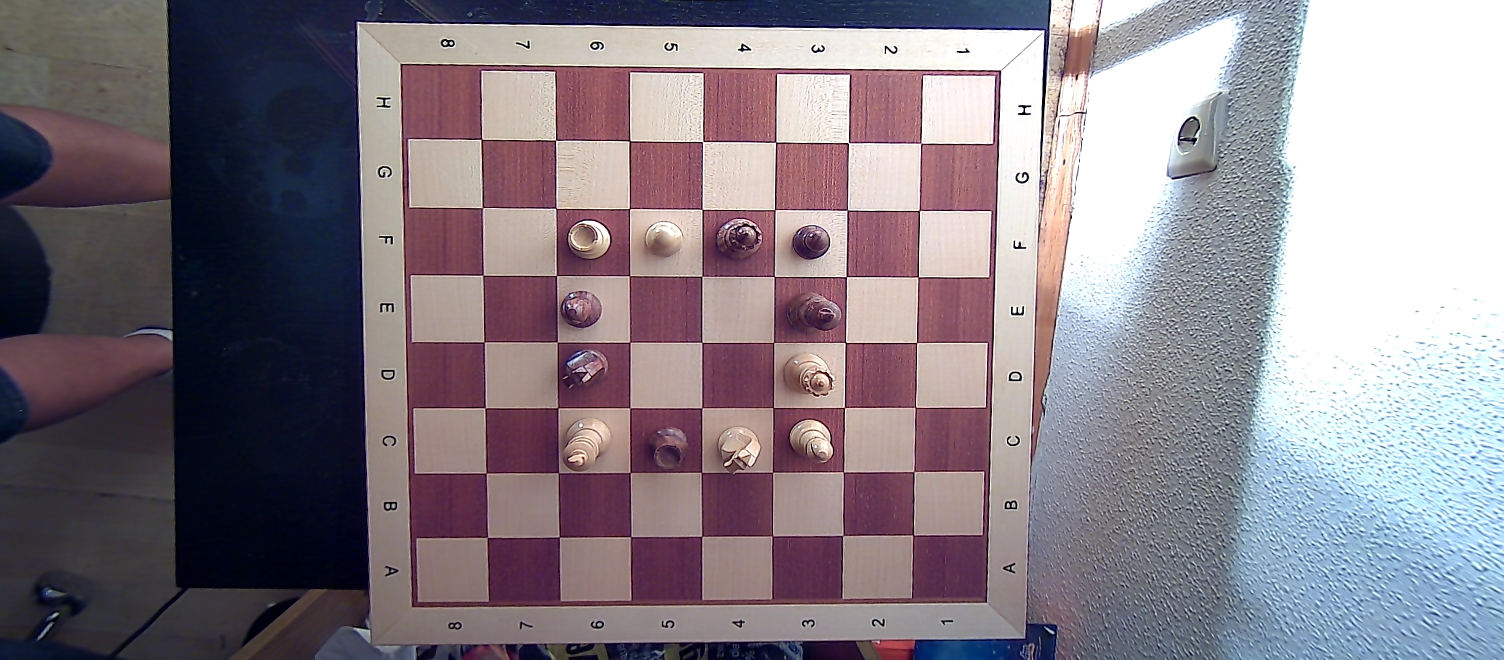black-bishop: (558, 287, 604, 331)
black-king: (783, 285, 845, 336)
black-knight: (560, 347, 616, 396)
black-pawn: (791, 220, 832, 268)
black-queen: (714, 215, 763, 265)
black-rook: (641, 422, 692, 473)
white-bishop: (784, 414, 837, 466)
white-king: (560, 414, 615, 473)
white-knight: (711, 422, 762, 474)
white-pawn: (640, 219, 684, 259)
white-queen: (779, 350, 835, 398)
white-rook: (564, 218, 618, 264)
